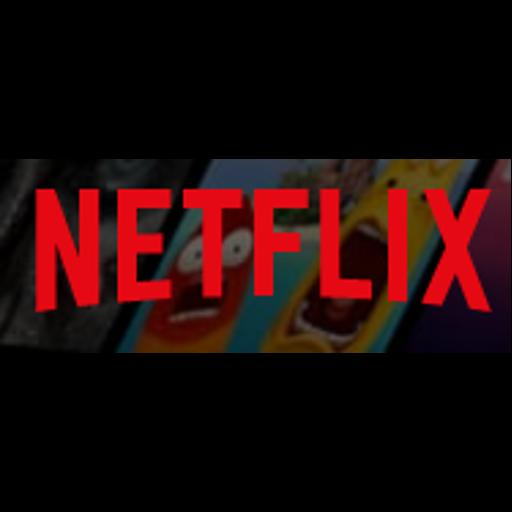Netflix: (0, 159, 511, 353)
